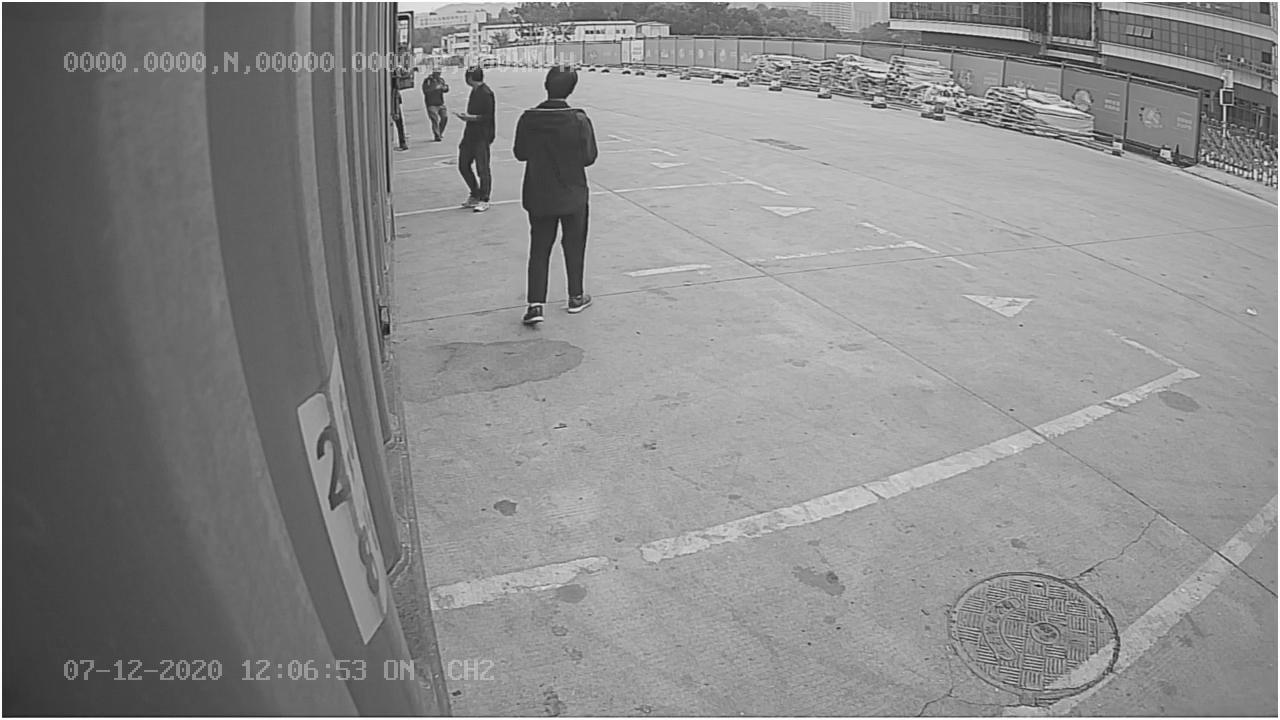person: (513, 57, 595, 334)
